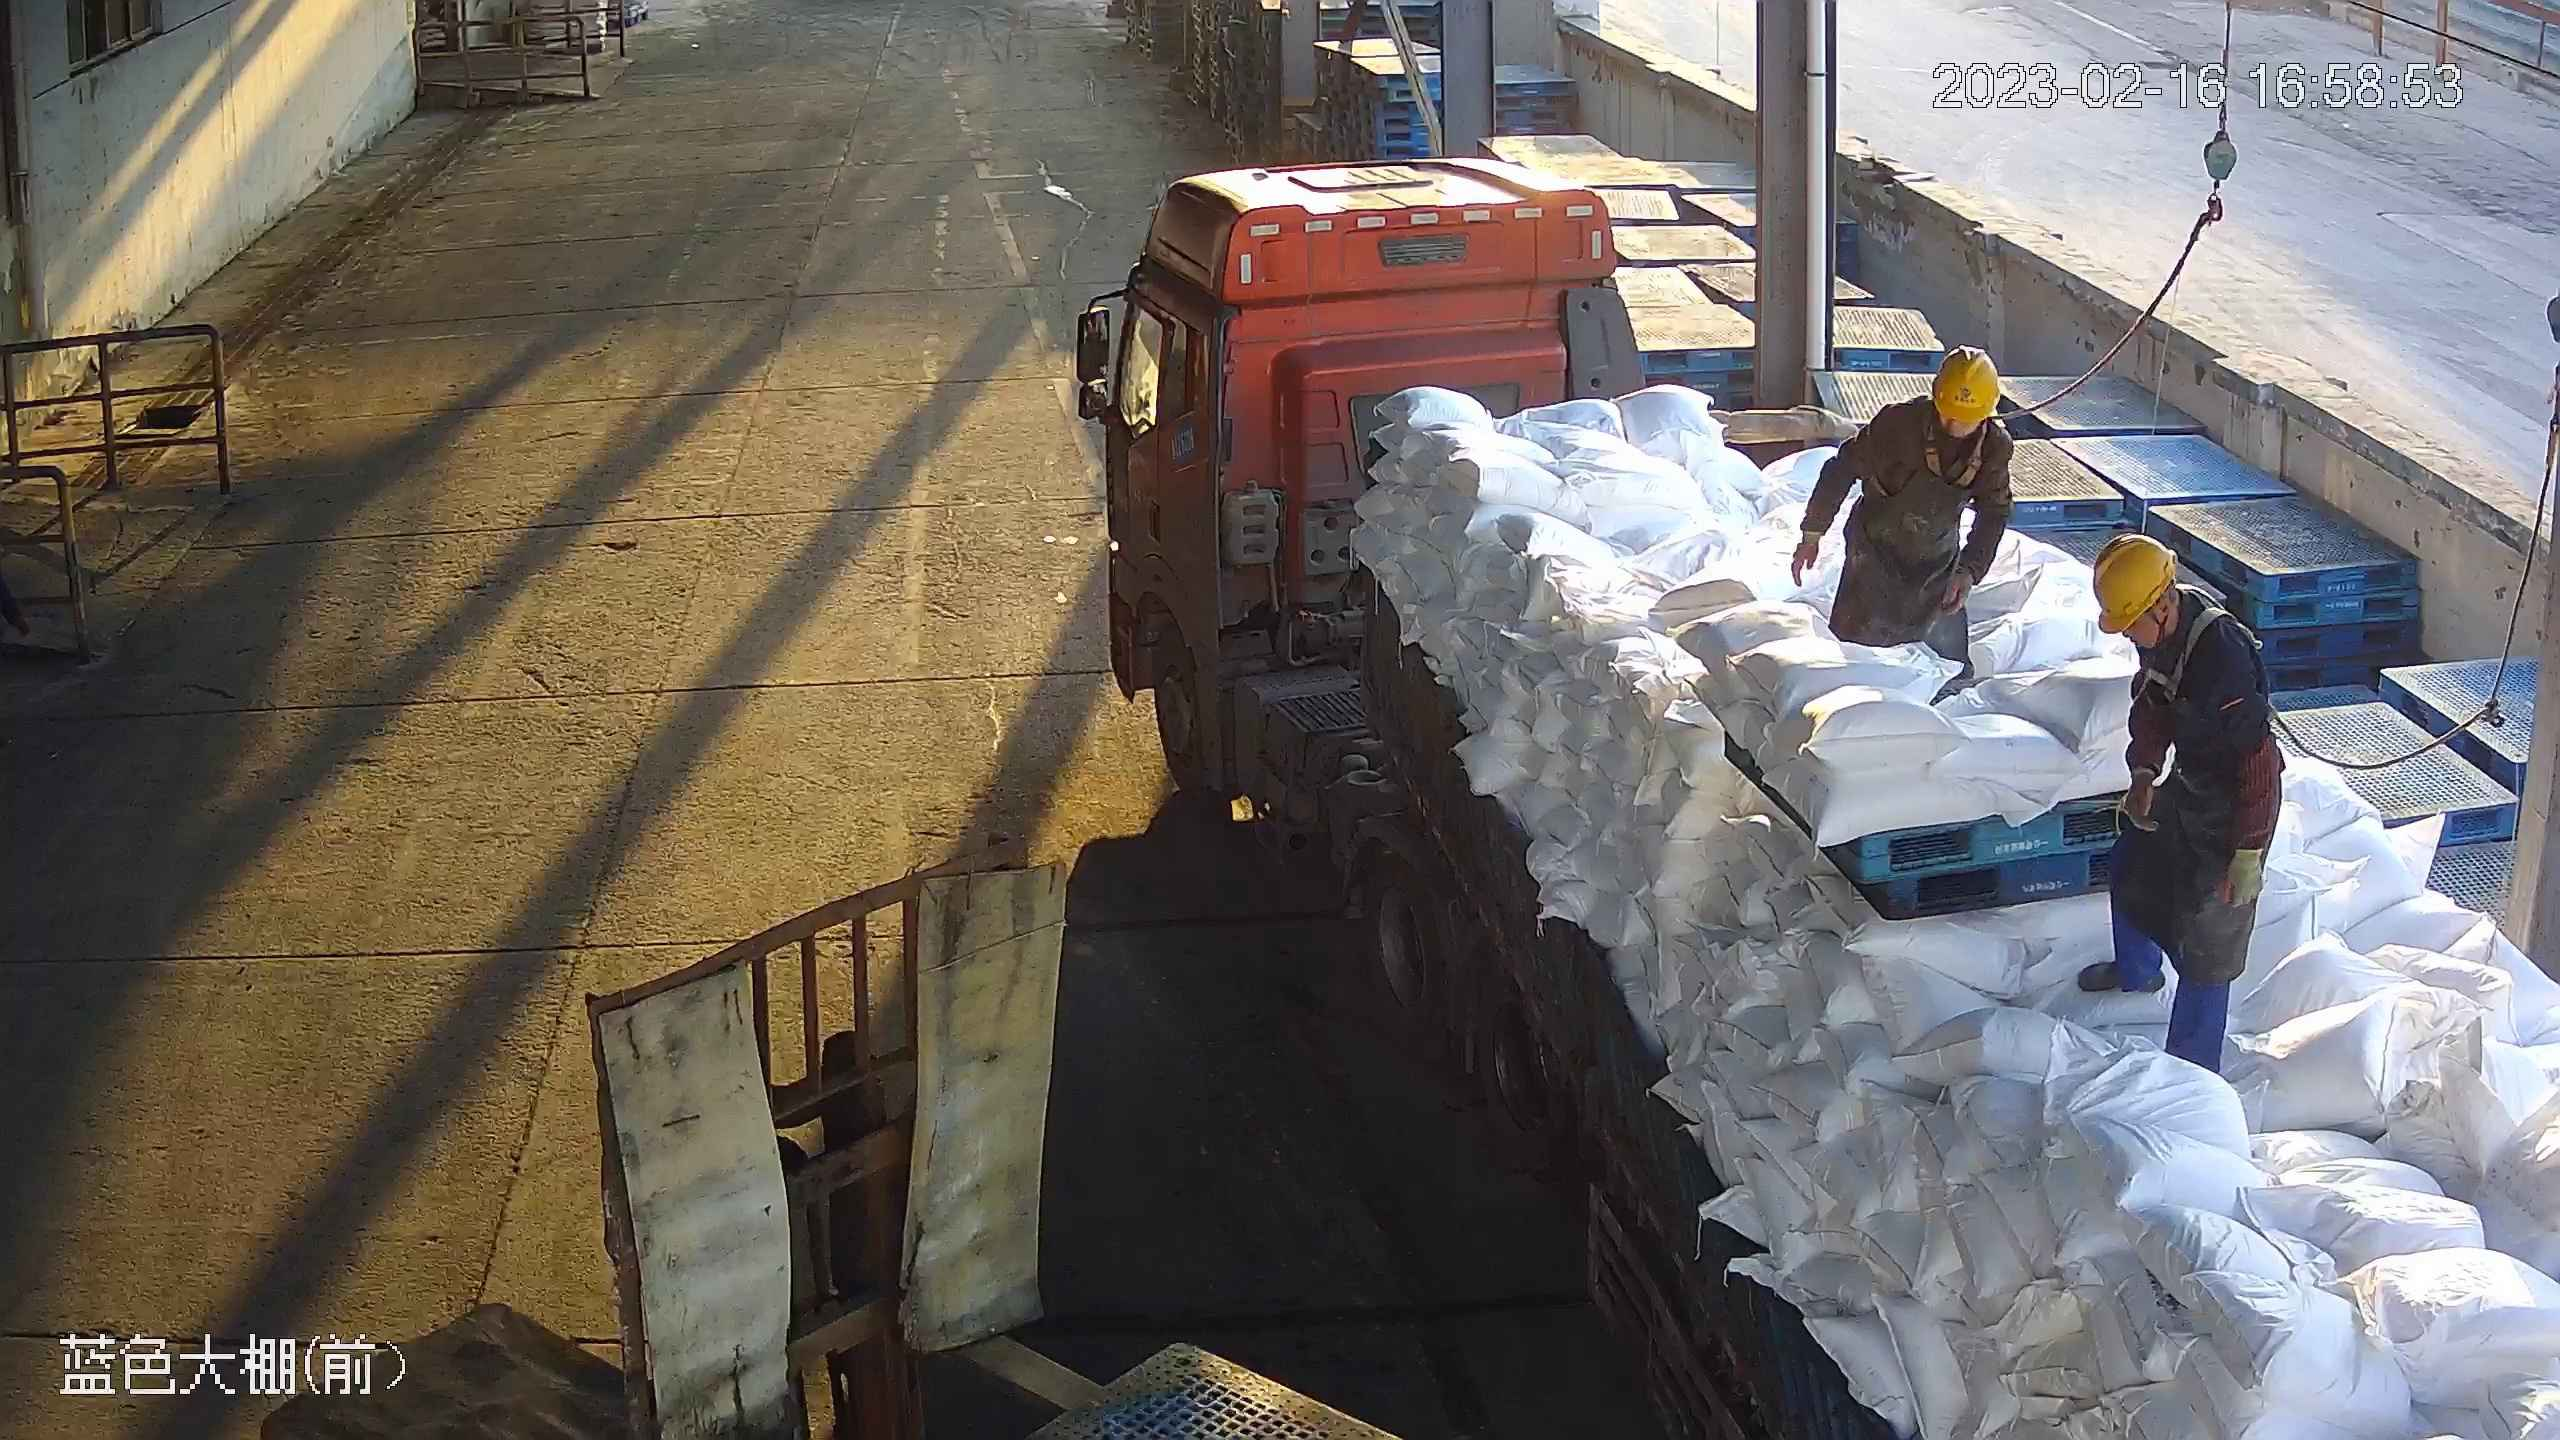belt: (2137, 615, 2223, 702), (1916, 432, 1986, 479)
head: (2086, 534, 2242, 668), (1886, 348, 2002, 469)
helmet: (2090, 532, 2179, 637), (1932, 350, 2000, 429)
people: (2076, 527, 2292, 1097), (1786, 344, 2016, 693)
truck: (1069, 160, 2560, 1440)
